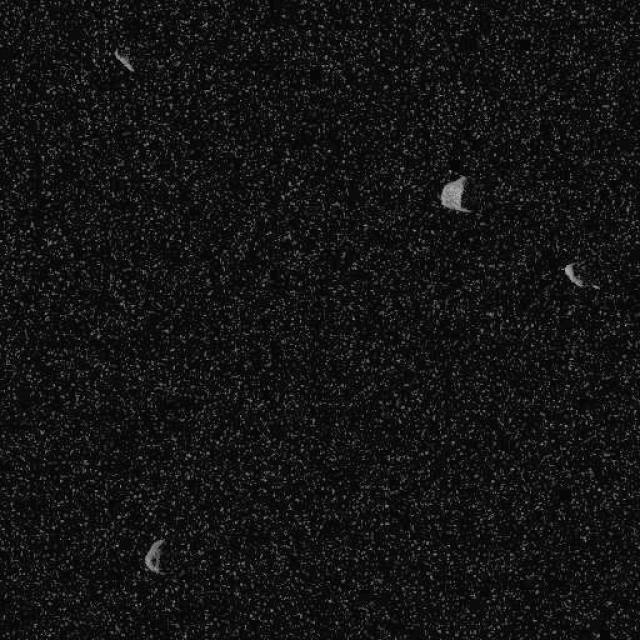D2: (438, 174, 474, 214), (142, 538, 168, 574), (562, 262, 584, 288), (112, 48, 134, 72)
